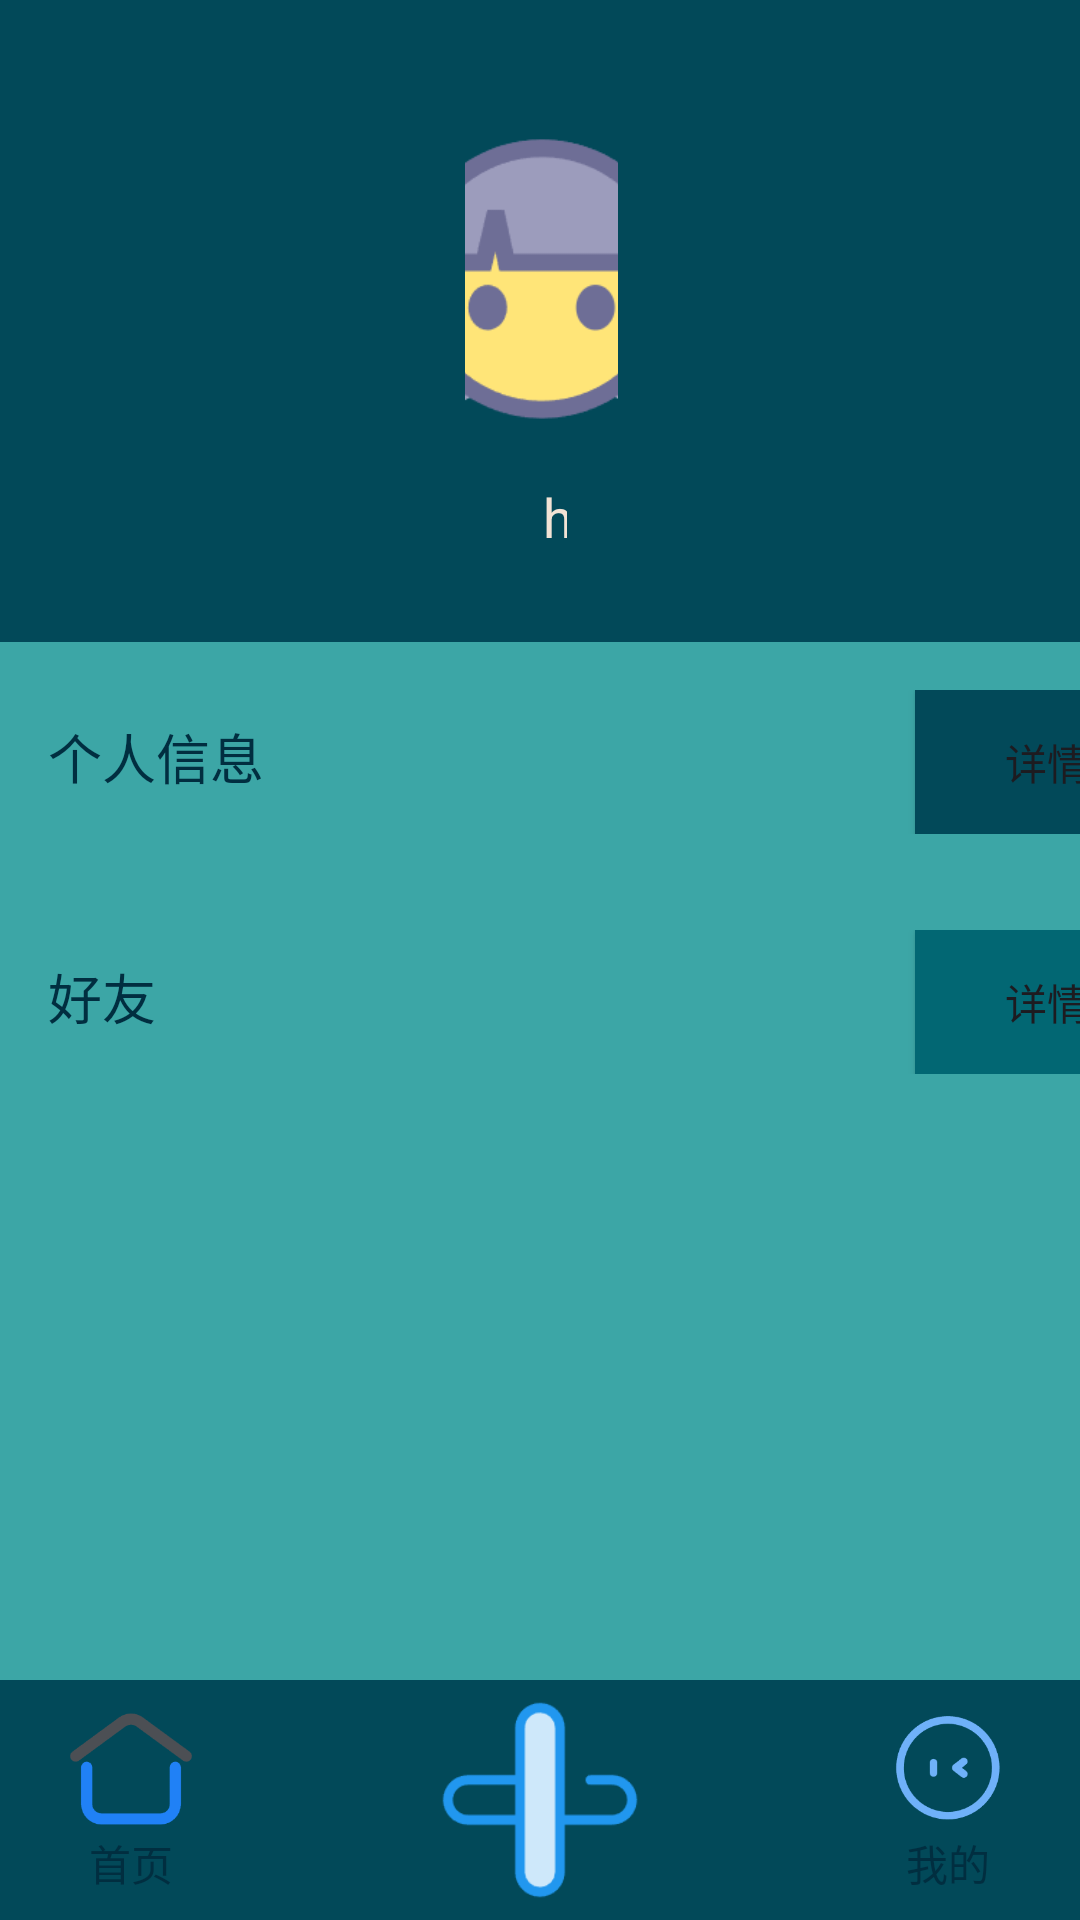

Named icons in this screenshot (1080x1920) and their bounding boxes, (x1, y1, x2, y2):
insert: (442, 1702, 638, 1897)
用户头像: (465, 139, 618, 419)
